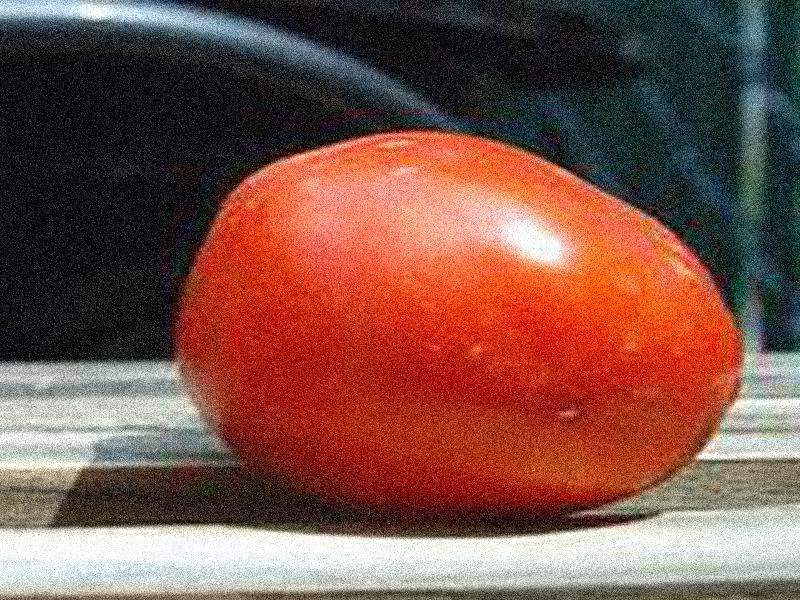Tomato: (179, 130, 744, 514)
